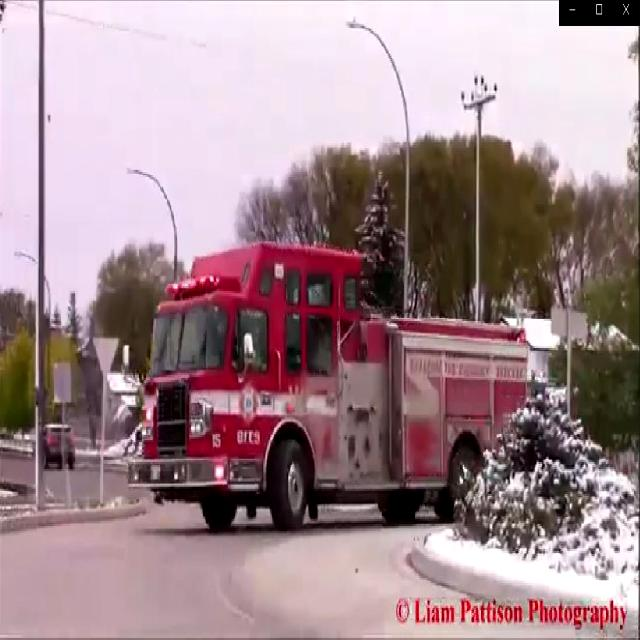emergency: (130, 244, 534, 543)
